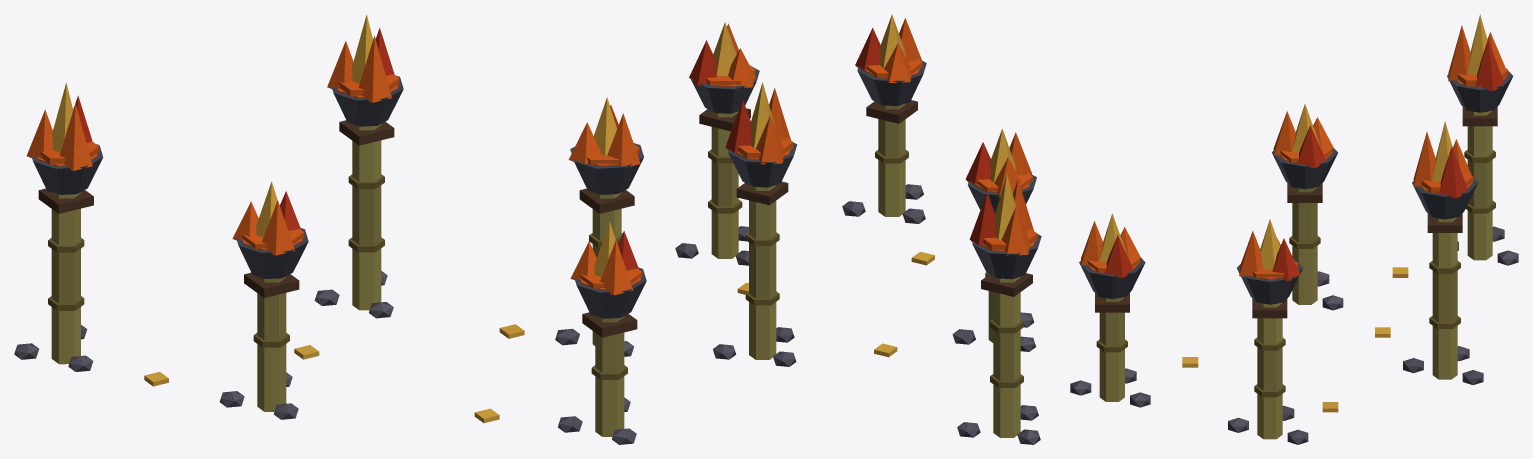
File: Decor_Volcano_Torches.fbx
3 views of the same model, side by side, from view 1: azimuth 30°, elevation 25°; view 2: azimuth 150°, elevation 25°; view 3: azimuth 270°, elevation 25° (orthographic). The views are drawn at different scales.
Visible parts, largest first — view 1: Torches_Body; view 2: Torches_Body; view 3: Torches_Body.
Part boxes in pixels (left/top/right/bottom): Torches_Body: left=14, top=14, right=646, bottom=444; Torches_Body: left=675, top=14, right=1041, bottom=444; Torches_Body: left=1070, top=14, right=1518, bottom=444.
Size of the model in its own units: 13.8 by 7.7 by 12.3.
